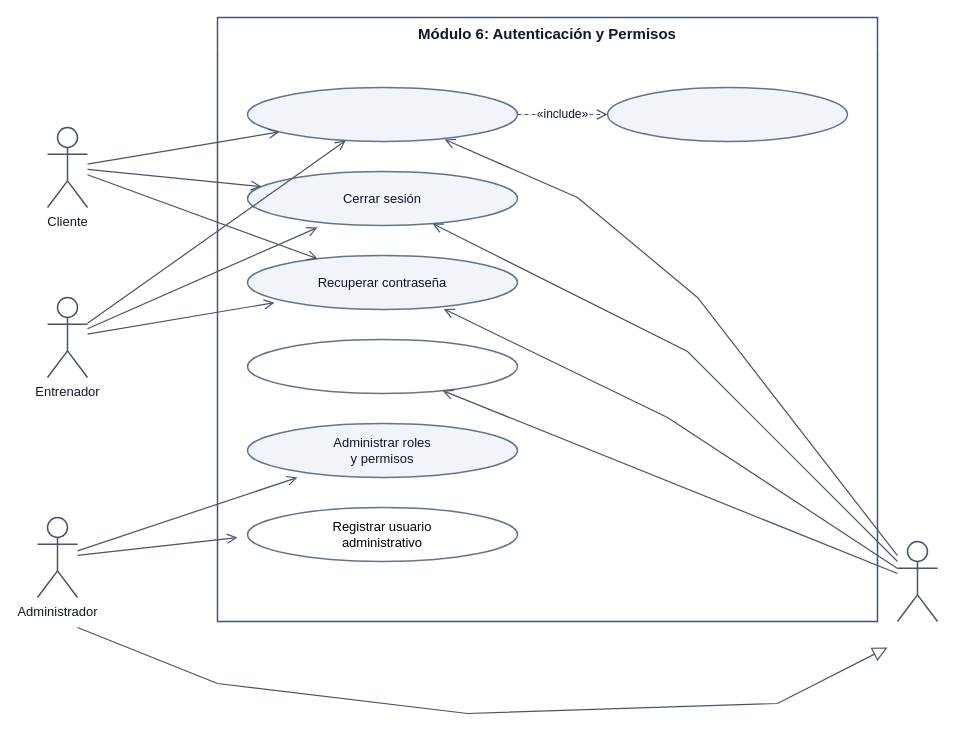
The diagram is 975 pixels wide and 746 high, and some of its shapes have lost their labels. The centre of each missing label's shape, as x and y in pixels:
"Crear credenciales de acceso" goes at point (382, 366).
"Iniciar sesión" goes at point (382, 114).
"Recepcionista" goes at point (917, 581).
"Restringir acceso según el rol" goes at point (727, 114).
